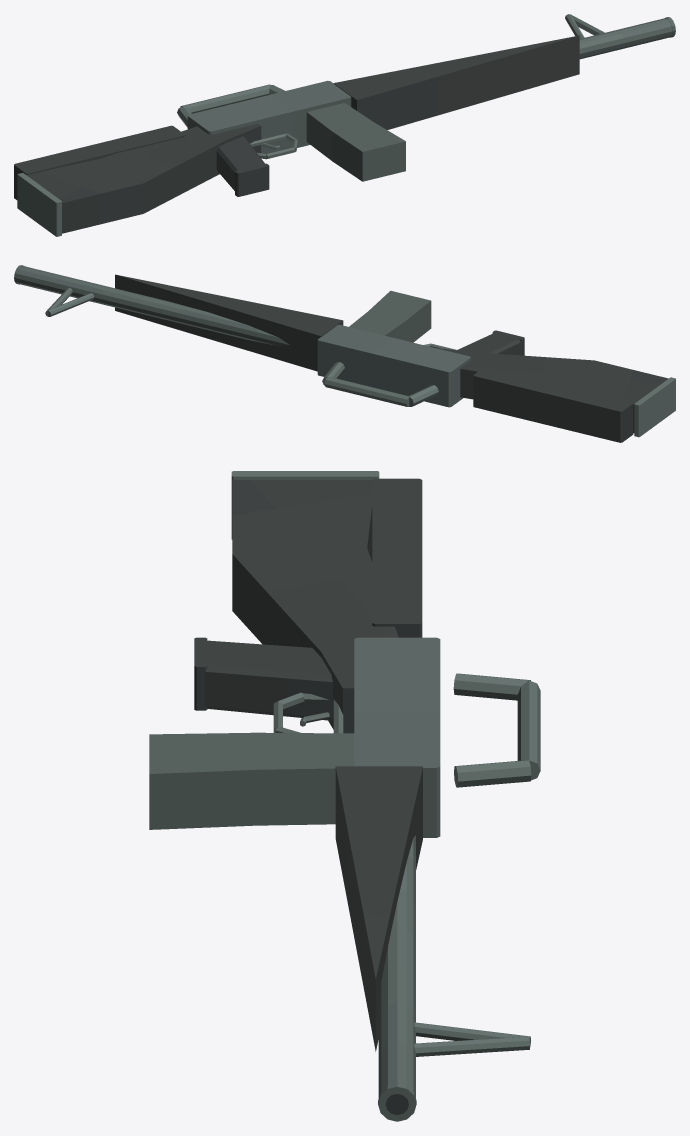
Rendered from weapon-m16.glb.
The picture shows the model from 3 angles, top to bottom: view 1: azimuth 30°, elevation 25°; view 2: azimuth 150°, elevation 25°; view 3: azimuth 270°, elevation 25°; orthographic projection. The views are drawn at different scales.
Visible parts, largest first — view 1: weapon-m16/triangular-early-handguard, weapon-m16/shaped-solid-butt, weapon-m16/full-depth-receiver, weapon-m16/distinct-detachable-magazine, weapon-m16/straight-stock-top-line, weapon-m16/round-barrel, weapon-m16/butt-end-plate, weapon-m16/distinct-eight-sided-pistol-grip, weapon-m16/open-carry-handle-2, weapon-m16/distinct-eight-sided-pistol-grip-heel; view 2: weapon-m16/full-depth-receiver, weapon-m16/triangular-early-handguard, weapon-m16/straight-stock-top-line, weapon-m16/shaped-solid-butt, weapon-m16/round-barrel, weapon-m16/distinct-detachable-magazine, weapon-m16/butt-end-plate, weapon-m16/open-carry-handle-2, weapon-m16/distinct-eight-sided-pistol-grip, weapon-m16/triangular-front-sight-2, weapon-m16/open-carry-handle-1; view 3: weapon-m16/shaped-solid-butt, weapon-m16/distinct-detachable-magazine, weapon-m16/triangular-early-handguard, weapon-m16/full-depth-receiver, weapon-m16/distinct-eight-sided-pistol-grip, weapon-m16/straight-stock-top-line, weapon-m16/round-barrel, weapon-m16/open-carry-handle-2, weapon-m16/open-carry-handle-3, weapon-m16/triangular-front-sight-1, weapon-m16/open-carry-handle-1, weapon-m16/butt-end-plate (+1 smaller).
Part boxes in pixels (x1=…): weapon-m16/triangular-early-handguard: x1=333, y1=35, x2=579, y2=129; weapon-m16/shaped-solid-butt: x1=26, y1=123, x2=261, y2=233; weapon-m16/full-depth-receiver: x1=187, y1=80, x2=351, y2=153; weapon-m16/distinct-detachable-magazine: x1=306, y1=103, x2=405, y2=181; weapon-m16/straight-stock-top-line: x1=14, y1=125, x2=184, y2=199; weapon-m16/round-barrel: x1=579, y1=18, x2=672, y2=59; weapon-m16/butt-end-plate: x1=17, y1=173, x2=61, y2=236; weapon-m16/distinct-eight-sided-pistol-grip: x1=216, y1=136, x2=264, y2=190; weapon-m16/open-carry-handle-2: x1=180, y1=84, x2=270, y2=113; weapon-m16/distinct-eight-sided-pistol-grip-heel: x1=235, y1=163, x2=269, y2=196; weapon-m16/full-depth-receiver: x1=317, y1=324, x2=470, y2=407; weapon-m16/triangular-early-handguard: x1=115, y1=274, x2=343, y2=371; weapon-m16/straight-stock-top-line: x1=473, y1=367, x2=633, y2=442; weapon-m16/shaped-solid-butt: x1=434, y1=347, x2=668, y2=433; weapon-m16/round-barrel: x1=17, y1=266, x2=289, y2=345; weapon-m16/distinct-detachable-magazine: x1=349, y1=290, x2=431, y2=342; weapon-m16/butt-end-plate: x1=634, y1=377, x2=675, y2=437; weapon-m16/open-carry-handle-2: x1=324, y1=376, x2=409, y2=406; weapon-m16/distinct-eight-sided-pistol-grip: x1=457, y1=332, x2=521, y2=355; weapon-m16/triangular-front-sight-2: x1=48, y1=293, x2=94, y2=316; weapon-m16/open-carry-handle-1: x1=409, y1=385, x2=438, y2=406; weapon-m16/shaped-solid-butt: x1=232, y1=479, x2=398, y2=733; weapon-m16/distinct-detachable-magazine: x1=149, y1=732, x2=354, y2=829; weapon-m16/triangular-early-handguard: x1=335, y1=766, x2=422, y2=1051; weapon-m16/full-depth-receiver: x1=354, y1=637, x2=440, y2=837; weapon-m16/distinct-eight-sided-pistol-grip: x1=201, y1=640, x2=332, y2=720; weapon-m16/straight-stock-top-line: x1=372, y1=478, x2=422, y2=637; weapon-m16/round-barrel: x1=378, y1=835, x2=415, y2=1097; weapon-m16/open-carry-handle-2: x1=517, y1=680, x2=540, y2=780; weapon-m16/open-carry-handle-3: x1=454, y1=760, x2=531, y2=787; weapon-m16/triangular-front-sight-1: x1=414, y1=1036, x2=530, y2=1056; weapon-m16/open-carry-handle-1: x1=453, y1=673, x2=530, y2=700; weapon-m16/butt-end-plate: x1=231, y1=471, x2=379, y2=539.
Bounding box in the file's own units: 0.993 × 0.056 × 0.273.
Materials: 2 (2 with a texture image).
